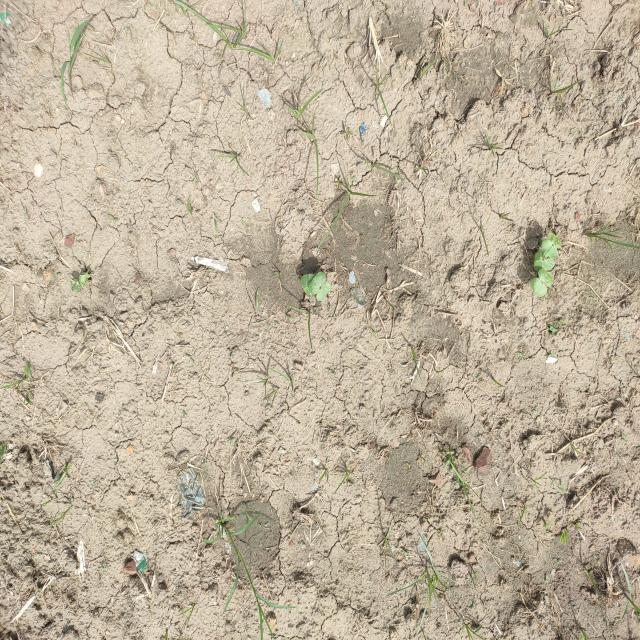seedling: (308, 271, 326, 295), (541, 239, 558, 259), (300, 274, 315, 296), (531, 277, 547, 297), (316, 283, 332, 301), (534, 258, 555, 271), (538, 268, 552, 286), (548, 233, 561, 249), (534, 249, 548, 261)
